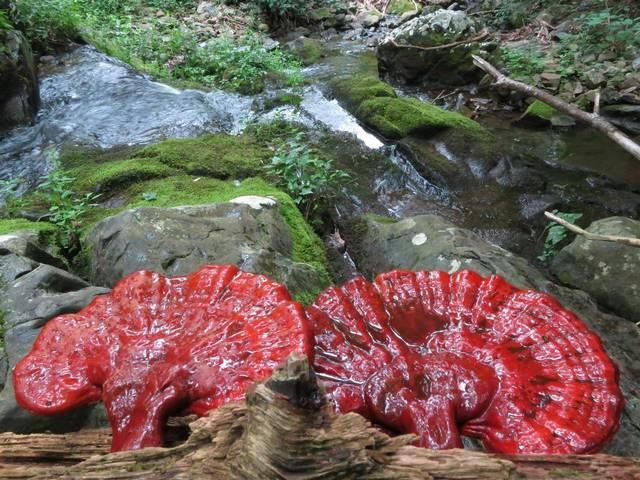Non-edible Mushroom: (287, 245, 620, 474), (11, 262, 311, 452)
